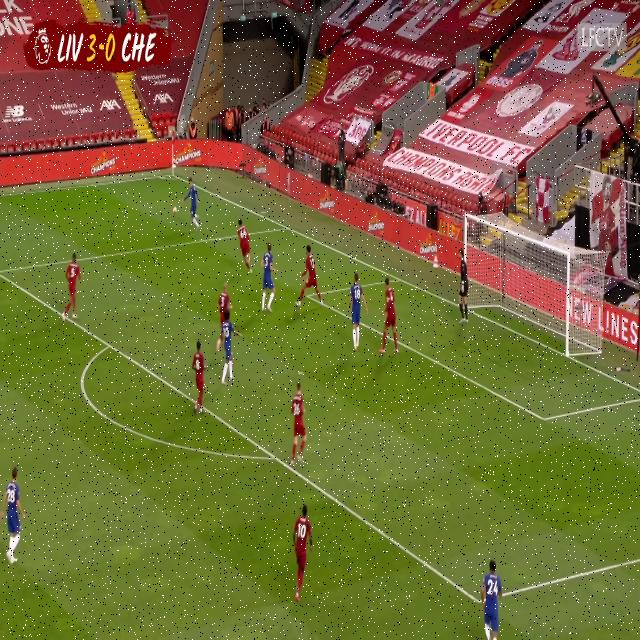Ball: (172, 207, 177, 214)
GoalKeeper: (459, 250, 472, 322), (218, 276, 231, 329)
TEAM 1: (290, 507, 312, 603), (296, 246, 324, 308), (289, 383, 308, 467), (380, 277, 399, 357), (63, 252, 82, 320), (238, 220, 251, 272)
TEAM 2: (4, 467, 30, 570), (480, 559, 504, 640), (217, 305, 239, 385), (192, 341, 208, 418), (351, 274, 366, 347), (262, 247, 278, 314), (186, 172, 201, 235)
